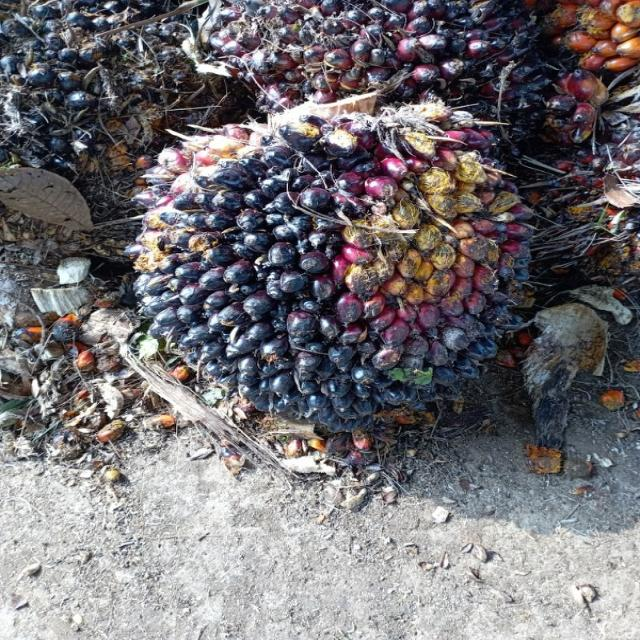fraksi 00: (131, 101, 549, 436), (0, 3, 204, 172)
